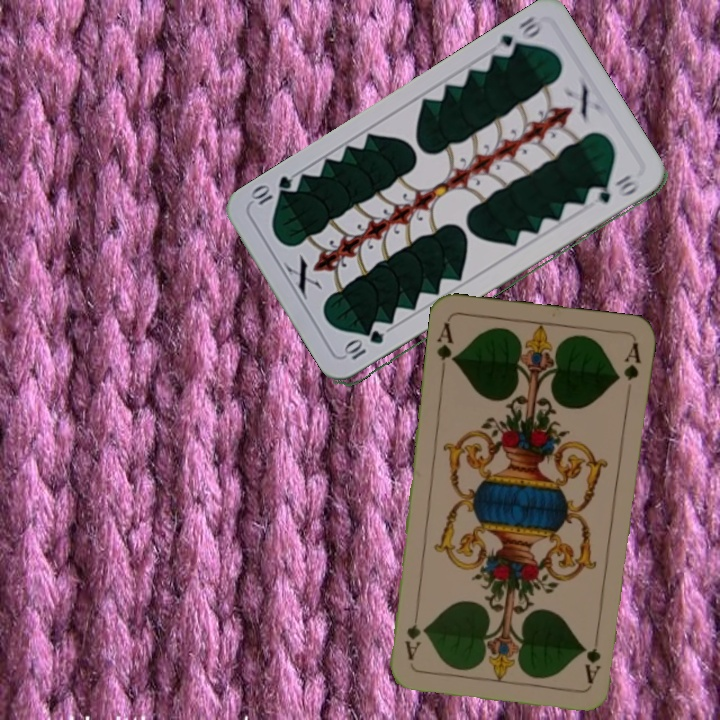G10: (490, 12, 544, 61), (342, 328, 387, 363)
GA: (433, 318, 459, 376), (581, 627, 604, 686)
